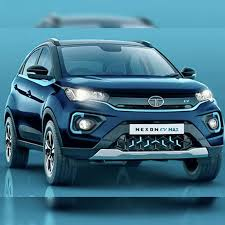Tata Nexon: (1, 30, 225, 199)
